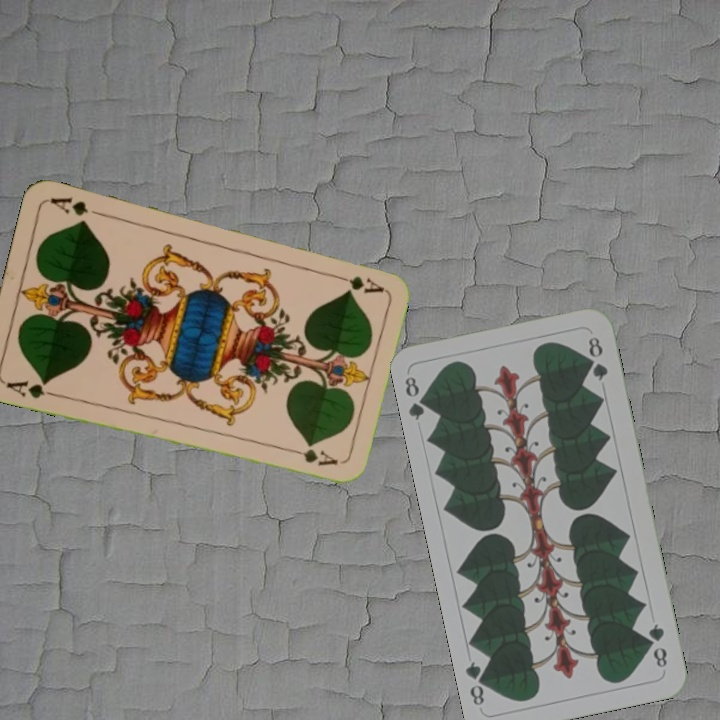G8: (400, 372, 433, 423), (644, 619, 670, 671)
GA: (328, 269, 386, 296), (2, 376, 60, 401)
